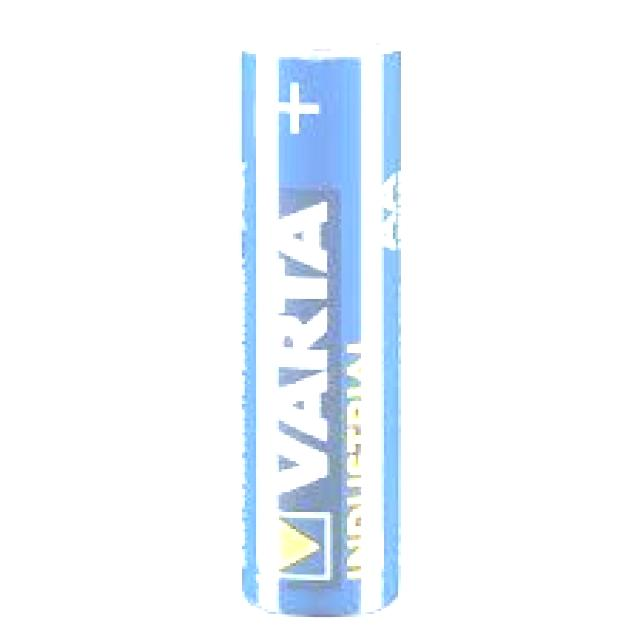AA: (233, 20, 409, 623)
